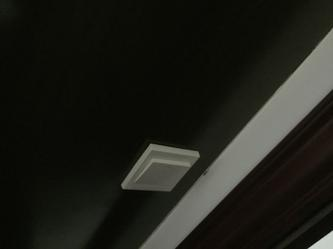switch: (128, 156, 192, 187)
